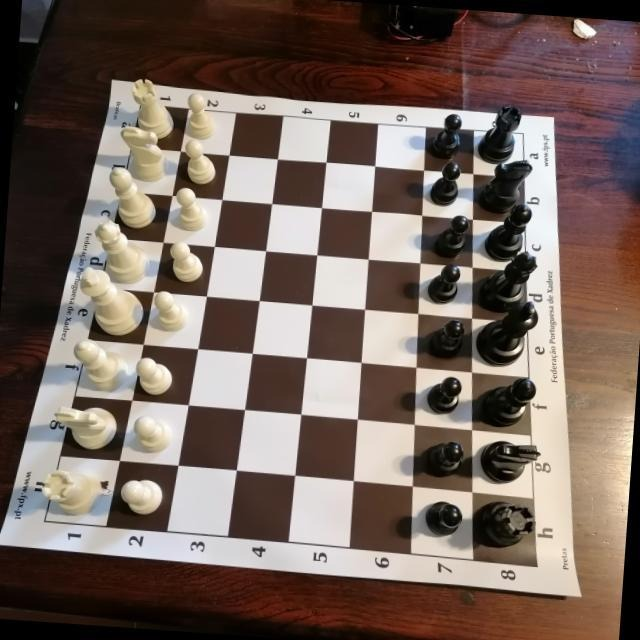black-bishop: (483, 200, 532, 263), (482, 376, 537, 428)
black-king: (473, 298, 539, 370)
black-knight: (480, 156, 532, 215), (478, 438, 541, 486)
black-pawn: (424, 499, 464, 537), (429, 161, 462, 207), (425, 374, 462, 415), (426, 262, 461, 305), (431, 112, 462, 160), (430, 318, 465, 360), (438, 214, 470, 258), (428, 440, 464, 478)
black-queen: (481, 248, 539, 316)
black-rook: (478, 499, 537, 549), (477, 102, 523, 165)
white-bishop: (70, 338, 131, 393), (106, 166, 158, 230)
white-king: (77, 266, 147, 338)
white-knight: (116, 124, 171, 183), (51, 404, 117, 451)
white-pawn: (150, 290, 190, 333), (119, 478, 163, 516), (185, 92, 219, 140), (174, 187, 210, 232), (182, 139, 217, 185), (134, 356, 174, 396), (132, 414, 172, 454), (167, 241, 204, 283)
white-queen: (91, 219, 153, 285)
white-rook: (127, 78, 177, 142), (40, 467, 103, 516)
